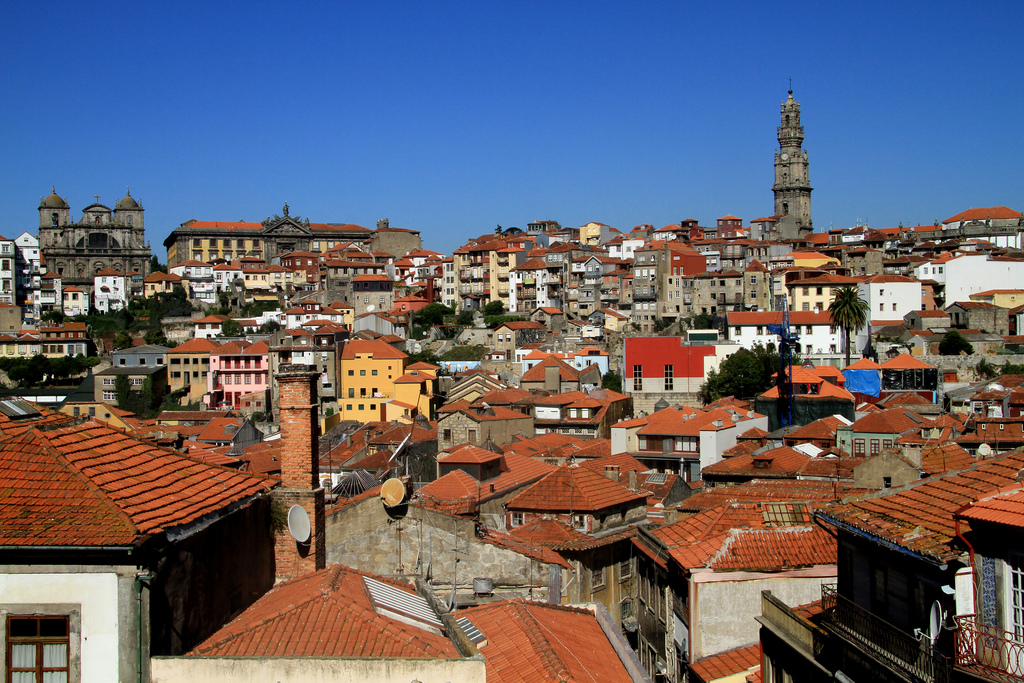clerigos: (768, 75, 819, 243)
